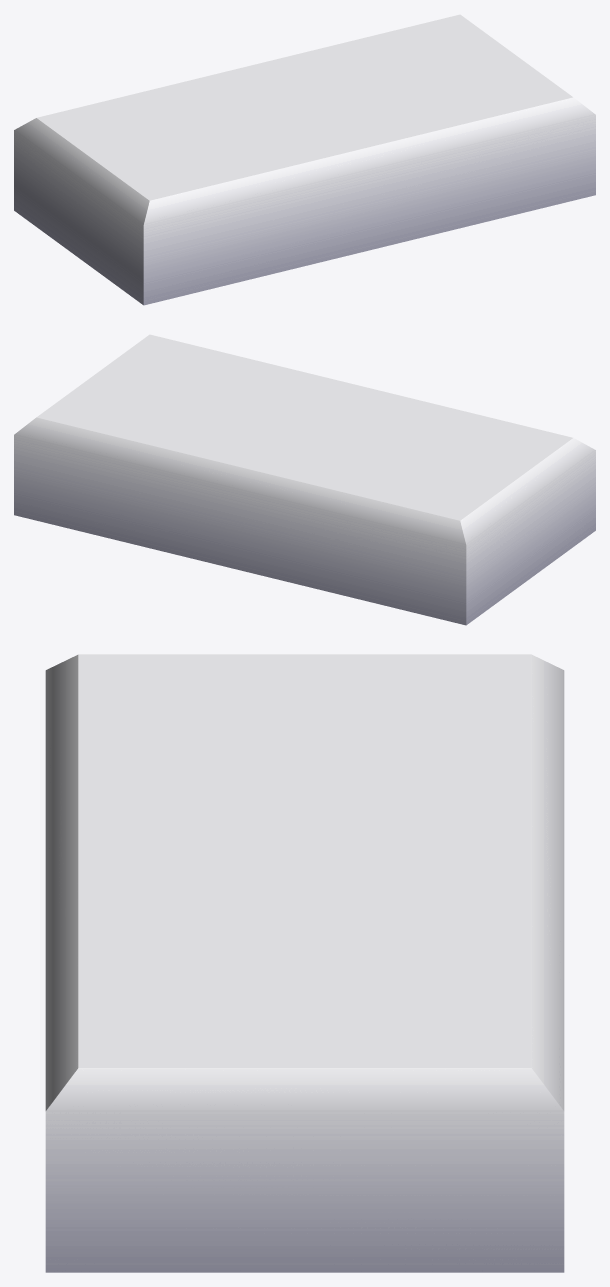
The model's file is brick-kit--none-hq-plate-1x2.glb.
3 renders of one model, top to bottom at view 1: azimuth 30°, elevation 25°; view 2: azimuth 150°, elevation 25°; view 3: azimuth 270°, elevation 25°, orthographic. The views are drawn at different scales.
Visible parts, largest first — view 1: none-hq-plate-1x2; view 2: none-hq-plate-1x2; view 3: none-hq-plate-1x2.
Boxes of the visible parts, x1,y1,x2,y2 form: none-hq-plate-1x2: (14, 14, 595, 305); none-hq-plate-1x2: (14, 334, 595, 625); none-hq-plate-1x2: (45, 654, 564, 1272).
Bounding box in the file's own units: 0.159 × 0.032 × 0.079.
1 material, 1 textured.
